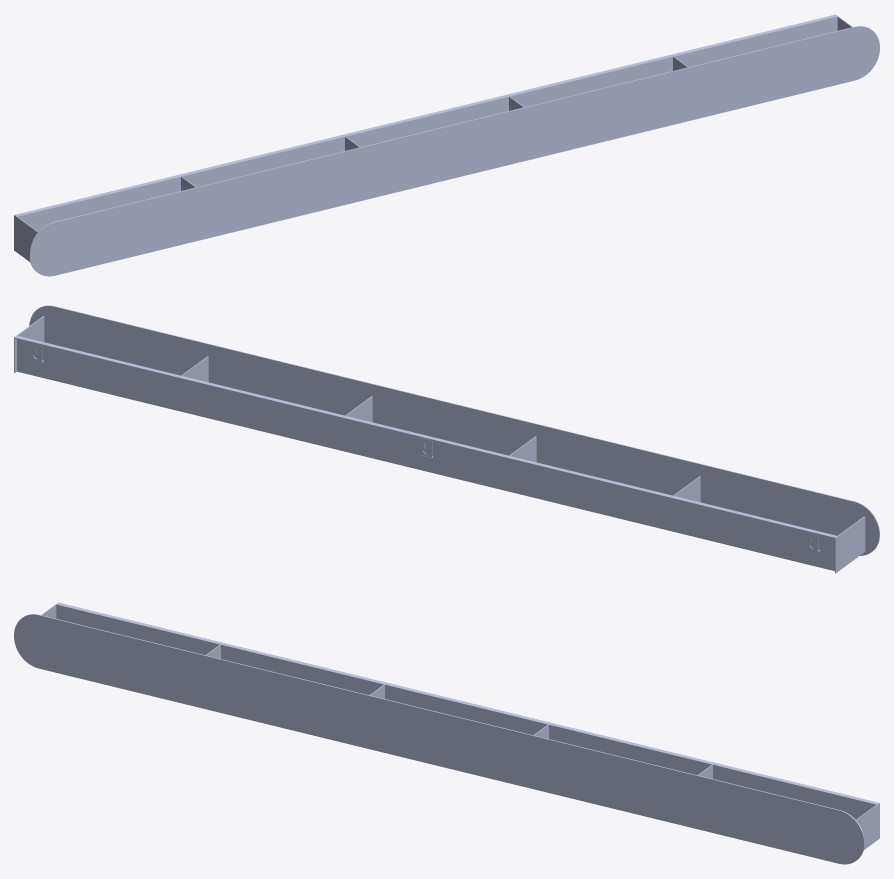
The model's file is round-mono.fca594c076.glb.
3 renders of one model, top to bottom at view 1: azimuth 30°, elevation 25°; view 2: azimuth 150°, elevation 25°; view 3: azimuth 330°, elevation 25°, orthographic.
Parts seen in each view (by area): view 1: NAUO1; view 2: NAUO1; view 3: NAUO1.
Part boxes in pixels (x1,y1,x2,y2): NAUO1: (14,14,879,276); NAUO1: (14,305,879,573); NAUO1: (14,602,879,864).
Bounding box in the file's own units: 1.5 × 0.0899 × 0.093.
